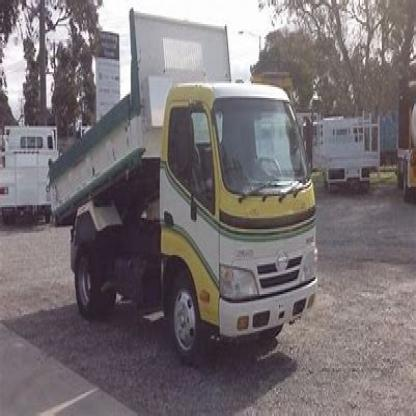dump_truck: (51, 6, 334, 390)
